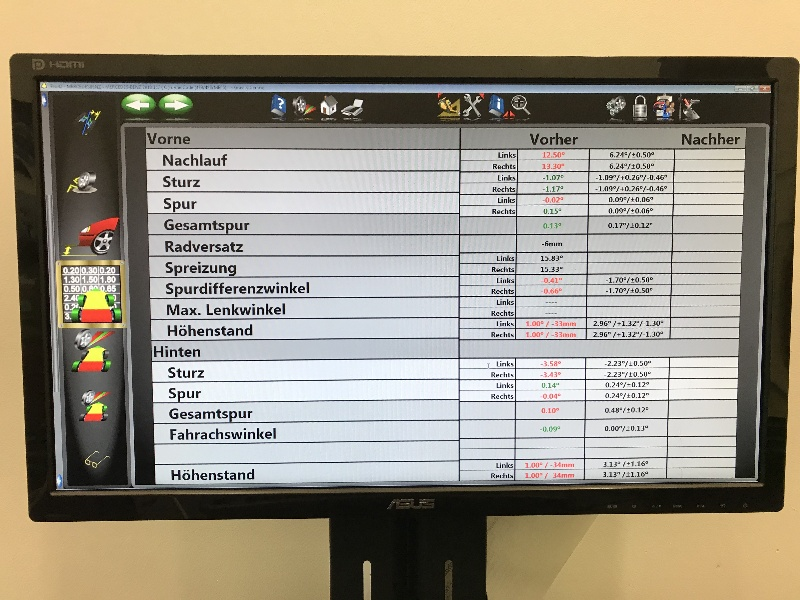wam_one: (140, 126, 590, 483)
